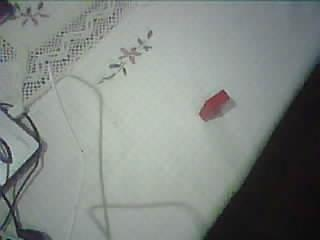lego: (196, 88, 231, 124)
